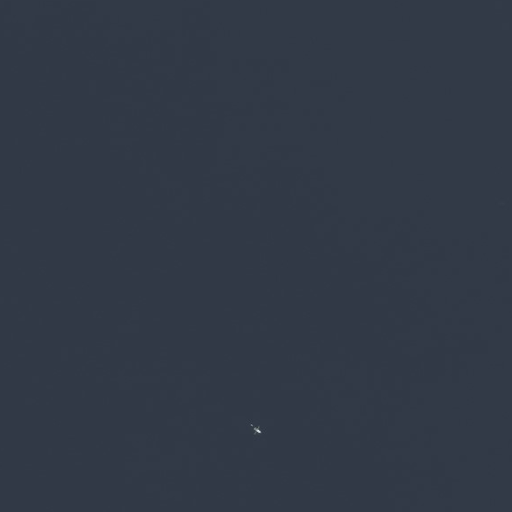ship: (249, 422, 264, 438)
